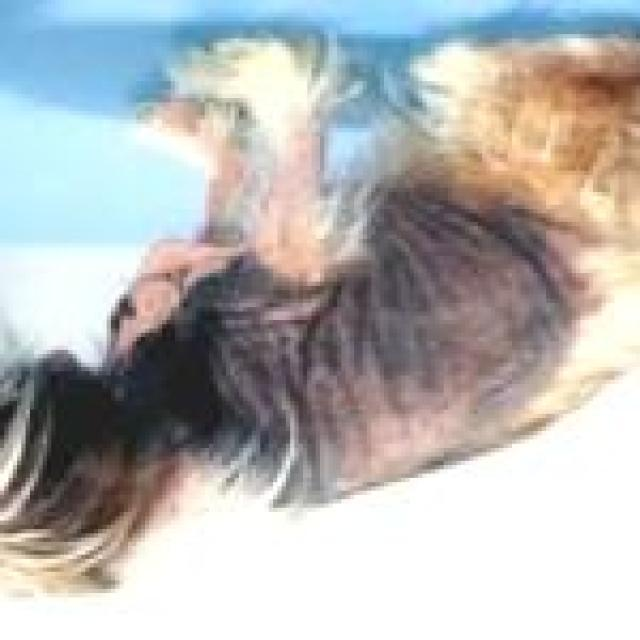fungal infection: (328, 398, 472, 465), (261, 122, 332, 256), (466, 264, 536, 340), (558, 219, 623, 293), (198, 143, 252, 214)
